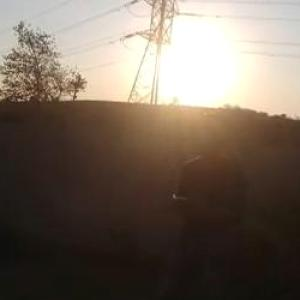follow: (163, 108, 250, 299)
